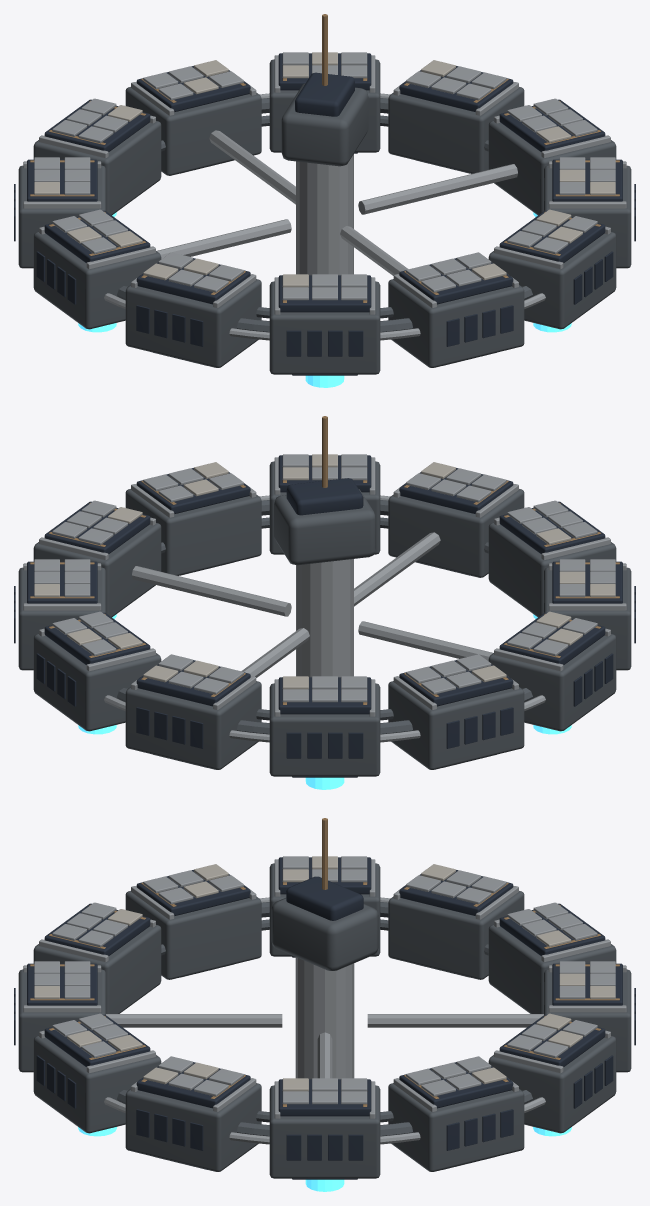
File: journey-ring-ship.glb
3 renders of one model, top to bottom at view 1: azimuth 30°, elevation 25°; view 2: azimuth 150°, elevation 25°; view 3: azimuth 270°, elevation 25°, orthographic.
Visible parts, largest first — view 1: habitat module 01, habitat module 07, habitat module 09, habitat module 03, central docking spine, habitat module 08, habitat module 06, habitat module 10, docking lock, habitat module 04, habitat module 00, habitat module 05 (+28 smaller); view 2: habitat module 11, habitat module 03, habitat module 05, central docking spine, habitat module 09, habitat module 04, habitat module 02, habitat module 06, docking lock, habitat module 08, habitat module 00, habitat module 01 (+28 smaller); view 3: habitat module 05, habitat module 07, habitat module 01, habitat module 11, central docking spine, habitat module 00, docking lock, habitat module 02, habitat module 10, habitat module 04, habitat module 08, habitat module 03 (+27 smaller).
Boxes of the visible parts, x1,y1,x2,y2 form: habitat module 01: [388, 87, 524, 173]; habitat module 07: [125, 279, 261, 367]; habitat module 09: [388, 279, 524, 367]; habitat module 03: [125, 87, 261, 175]; central docking spine: [296, 154, 353, 275]; habitat module 08: [269, 281, 380, 374]; habitat module 06: [33, 232, 161, 329]; habitat module 10: [488, 232, 616, 329]; docking lock: [281, 83, 368, 166]; habitat module 04: [33, 121, 161, 215]; habitat module 00: [488, 121, 616, 215]; habitat module 05: [18, 165, 105, 268]; habitat module 11: [125, 489, 261, 575]; habitat module 03: [125, 681, 261, 769]; habitat module 05: [388, 681, 524, 769]; central docking spine: [296, 559, 353, 677]; habitat module 09: [388, 489, 524, 577]; habitat module 04: [269, 683, 380, 776]; habitat module 02: [33, 634, 161, 731]; habitat module 06: [488, 634, 616, 731]; docking lock: [274, 489, 375, 565]; habitat module 08: [488, 523, 616, 617]; habitat module 00: [33, 523, 161, 617]; habitat module 01: [18, 567, 105, 670]; habitat module 05: [388, 891, 524, 979]; habitat module 07: [125, 891, 261, 979]; habitat module 01: [388, 1083, 524, 1171]; habitat module 11: [125, 1083, 261, 1171]; central docking spine: [295, 957, 354, 1079]; habitat module 00: [269, 1085, 380, 1178]; docking lock: [271, 898, 378, 970]; habitat module 02: [488, 1036, 616, 1133]; habitat module 10: [33, 1036, 161, 1133]; habitat module 04: [488, 925, 616, 1013]; habitat module 08: [33, 925, 161, 1013]; habitat module 03: [544, 969, 631, 1072].
Size of the model in its own units: 5.12 by 2.68 by 5.12.
